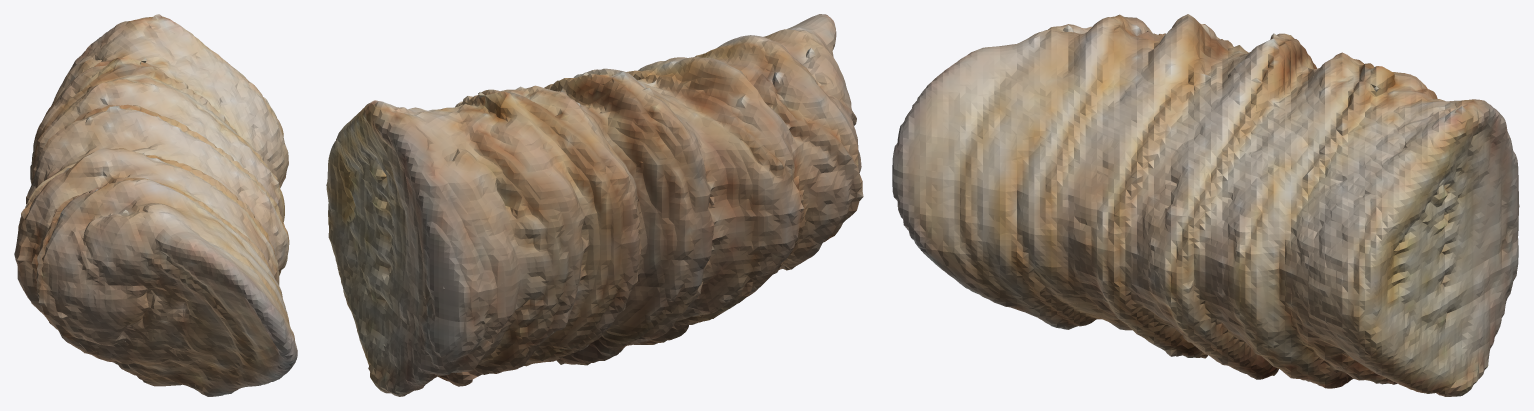
The model's file is pastel-triposr.glb.
The picture shows the model from 3 angles, left to right: view 1: azimuth 30°, elevation 25°; view 2: azimuth 150°, elevation 25°; view 3: azimuth 270°, elevation 25°; orthographic projection. The views are drawn at different scales.
Visible parts, largest first — view 1: world; view 2: world; view 3: world.
Part boxes in pixels (<box>): world: <box>14,14,297,396</box>; world: <box>326,14,863,396</box>; world: <box>892,14,1519,396</box>.
Size of the model in its own units: 0.769 by 0.5488 by 1.
